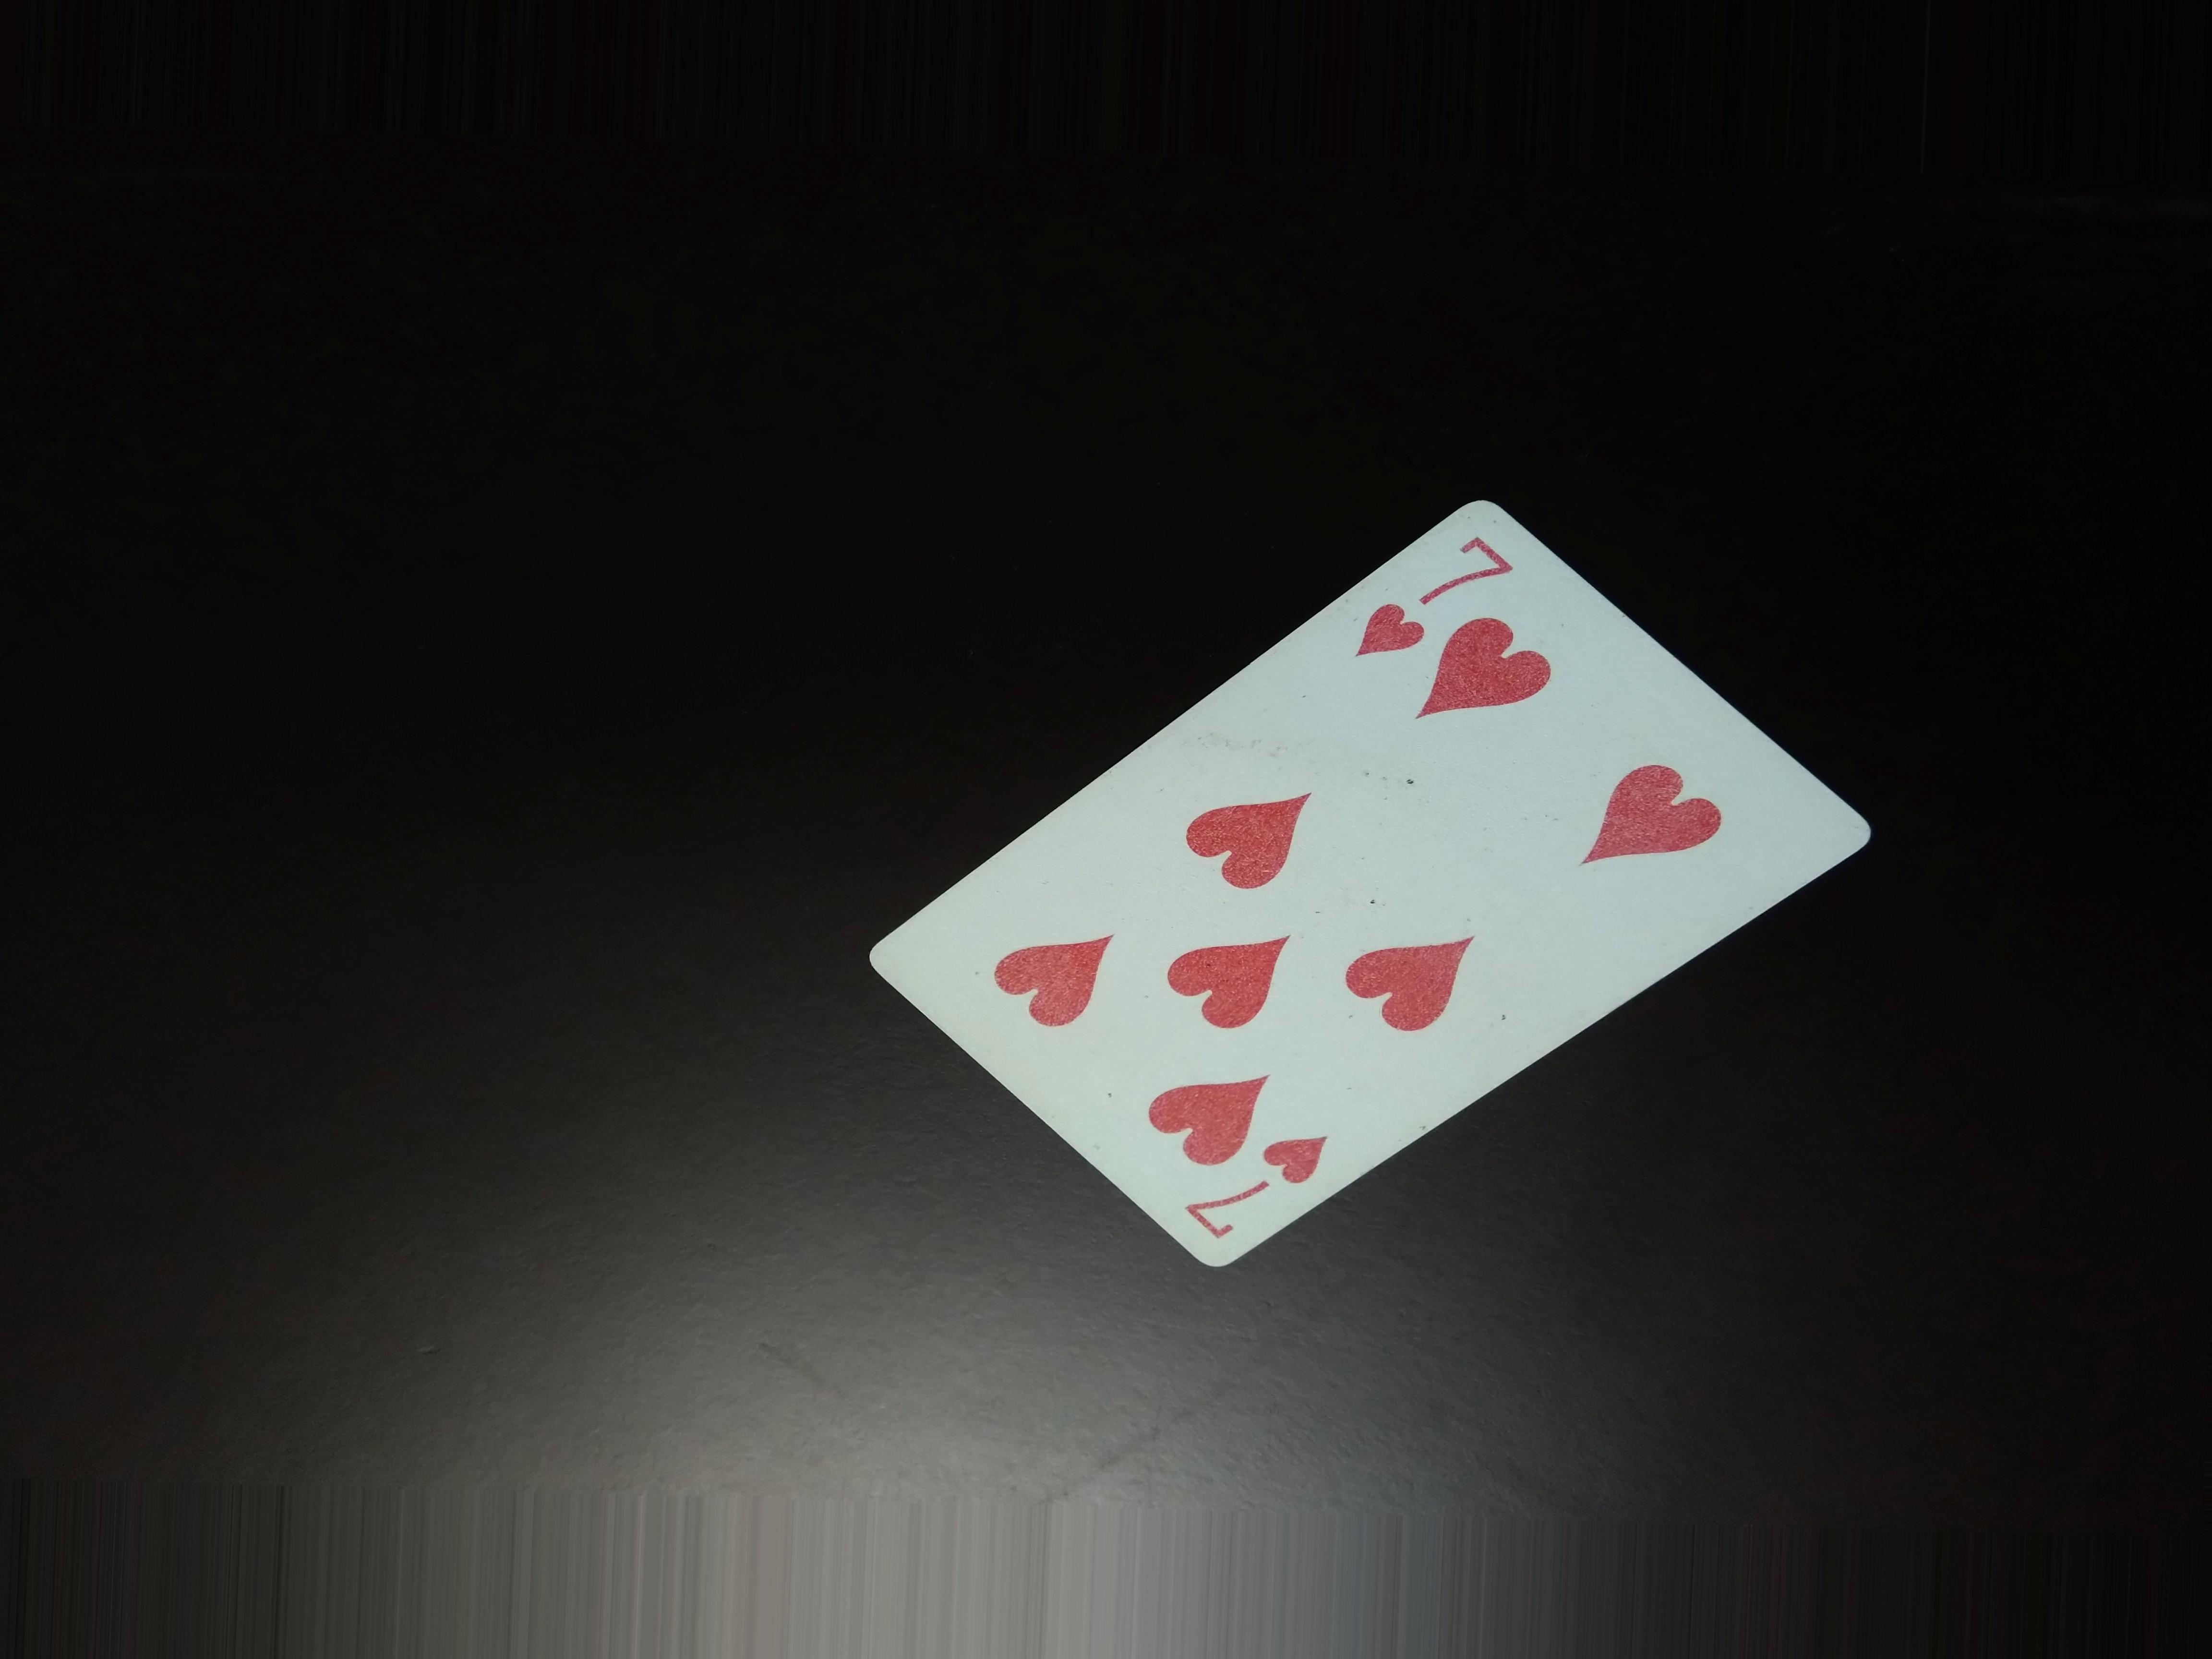7H: (1348, 525, 1536, 678)
